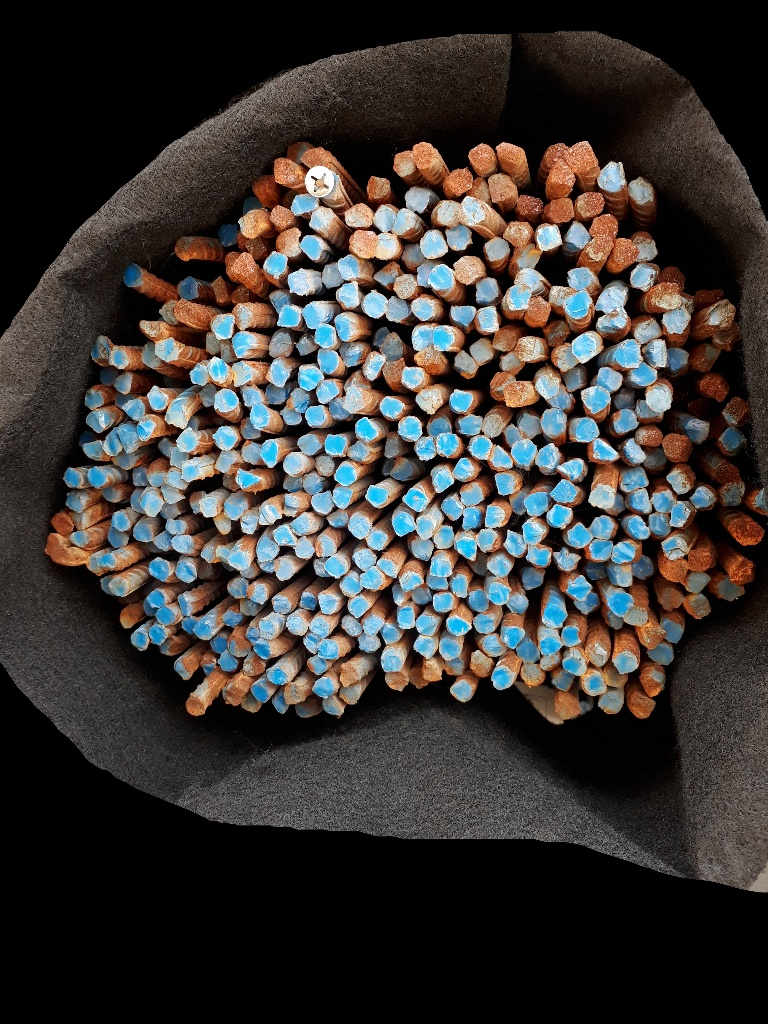dipstick: (565, 140, 599, 176), (657, 550, 690, 582), (451, 254, 483, 286), (661, 431, 692, 464), (597, 162, 629, 193), (733, 517, 765, 548), (579, 386, 614, 414), (545, 166, 576, 197), (307, 167, 337, 199), (488, 370, 518, 401), (727, 556, 757, 587), (660, 306, 692, 335), (710, 319, 739, 351), (630, 316, 662, 345), (589, 436, 621, 465), (612, 237, 639, 271), (639, 340, 671, 368), (597, 312, 630, 339), (626, 176, 655, 206), (707, 301, 737, 330), (349, 230, 379, 259), (699, 372, 730, 400), (502, 380, 533, 408), (473, 304, 501, 335), (637, 622, 668, 650), (549, 343, 578, 372), (563, 221, 591, 251), (562, 290, 592, 318), (645, 382, 672, 413), (629, 358, 658, 386), (392, 206, 420, 235), (615, 339, 642, 369), (458, 196, 485, 226), (716, 479, 746, 506), (627, 691, 657, 718), (88, 335, 115, 365), (494, 142, 525, 168), (721, 396, 746, 428), (542, 320, 570, 348), (420, 230, 447, 259), (610, 408, 639, 435), (415, 388, 444, 415), (688, 546, 715, 575), (606, 561, 635, 588), (360, 291, 389, 318), (585, 235, 615, 261), (664, 347, 690, 377), (511, 244, 541, 270), (510, 438, 536, 468), (588, 214, 619, 239), (502, 221, 533, 246), (654, 283, 682, 310), (553, 691, 581, 718), (487, 175, 516, 201), (468, 144, 497, 170), (541, 409, 567, 438), (717, 576, 746, 602), (683, 593, 712, 619), (623, 515, 652, 541), (335, 282, 361, 311), (694, 342, 719, 372), (575, 192, 606, 216), (595, 288, 626, 312), (631, 235, 658, 262), (547, 383, 574, 410), (516, 414, 543, 441), (546, 196, 574, 222), (595, 366, 623, 392), (684, 417, 712, 443), (491, 328, 519, 354), (467, 435, 495, 461), (549, 478, 577, 504), (336, 254, 362, 282), (239, 212, 267, 238), (333, 314, 359, 342), (287, 269, 313, 297), (588, 515, 617, 540), (379, 333, 404, 362), (373, 262, 402, 287), (646, 641, 676, 665), (640, 666, 664, 696), (618, 470, 650, 492), (535, 225, 562, 251), (483, 234, 510, 260), (506, 284, 533, 310), (667, 468, 694, 494), (514, 336, 541, 362), (468, 651, 495, 677), (545, 503, 572, 529), (275, 228, 301, 255), (118, 396, 144, 423), (661, 265, 686, 293), (433, 200, 461, 225), (345, 203, 373, 228), (383, 362, 411, 387), (572, 417, 601, 441), (433, 433, 462, 457), (586, 483, 615, 507), (648, 511, 672, 540), (512, 269, 542, 292), (634, 424, 664, 447), (637, 399, 663, 425), (448, 388, 474, 414), (527, 543, 553, 569), (403, 486, 429, 512), (154, 338, 180, 364), (572, 335, 597, 362), (427, 264, 452, 291), (486, 446, 513, 471), (430, 466, 455, 493), (410, 534, 435, 561), (353, 417, 380, 442), (346, 513, 373, 538), (231, 332, 256, 359), (719, 426, 743, 454), (404, 188, 432, 212), (556, 457, 585, 480), (681, 570, 711, 592), (630, 264, 656, 289), (474, 277, 499, 303), (561, 366, 587, 391), (520, 663, 546, 688), (392, 511, 417, 537), (398, 416, 423, 442), (393, 274, 418, 300), (411, 142, 436, 168), (342, 387, 367, 413), (309, 208, 335, 233), (273, 158, 298, 184), (267, 333, 293, 358), (233, 255, 259, 280), (543, 142, 570, 166), (498, 351, 525, 375), (606, 591, 633, 615), (384, 295, 408, 322), (338, 341, 365, 365), (140, 343, 164, 370), (163, 466, 190, 490), (662, 535, 690, 558), (362, 353, 385, 381), (344, 370, 372, 393), (290, 194, 319, 216), (300, 148, 329, 170), (119, 425, 140, 455), (492, 471, 517, 496), (690, 484, 715, 509), (610, 539, 635, 564), (567, 576, 592, 601), (553, 548, 578, 573), (445, 226, 471, 250), (626, 487, 650, 513), (566, 521, 590, 547), (659, 618, 683, 644), (597, 692, 623, 716), (580, 672, 606, 696), (489, 666, 515, 690), (388, 457, 414, 481), (374, 234, 398, 260), (393, 151, 417, 177), (242, 651, 266, 677), (85, 408, 111, 432), (534, 374, 561, 397), (622, 439, 645, 466), (470, 336, 493, 363), (454, 348, 477, 375), (412, 325, 435, 352), (140, 319, 167, 342), (566, 267, 594, 289), (571, 593, 599, 615), (541, 604, 569, 626), (482, 635, 510, 657), (212, 389, 240, 411), (514, 195, 543, 216), (449, 168, 473, 193), (527, 295, 552, 319), (521, 520, 546, 544), (454, 537, 478, 562), (415, 613, 440, 637), (411, 296, 435, 321), (347, 594, 371, 619), (276, 305, 301, 329), (264, 251, 288, 276), (177, 276, 201, 301), (561, 652, 587, 675), (658, 588, 684, 611), (503, 530, 526, 556), (487, 554, 513, 577), (212, 427, 238, 450), (302, 303, 325, 329), (640, 447, 667, 469), (174, 429, 201, 451), (111, 452, 144, 470), (587, 540, 615, 561), (452, 457, 476, 481), (614, 650, 638, 674), (551, 668, 575, 692), (367, 175, 391, 199), (310, 491, 334, 515), (316, 349, 340, 373), (515, 638, 538, 663), (433, 525, 456, 550), (391, 582, 414, 607), (224, 496, 249, 519), (327, 397, 352, 420), (298, 236, 321, 261), (450, 303, 476, 325), (537, 444, 559, 470), (523, 492, 549, 514), (668, 500, 690, 526), (537, 635, 563, 657), (235, 468, 261, 490), (211, 314, 233, 340), (141, 491, 163, 517), (259, 440, 280, 467), (147, 386, 168, 413), (508, 490, 532, 513), (459, 482, 483, 505), (631, 555, 654, 579), (586, 642, 609, 666), (475, 530, 499, 553), (365, 484, 389, 507), (334, 463, 357, 487), (359, 568, 383, 591), (218, 648, 241, 672), (255, 536, 279, 559), (287, 140, 311, 163), (299, 366, 323, 389), (164, 406, 187, 430), (146, 462, 170, 485), (432, 325, 454, 350), (501, 626, 526, 648), (340, 572, 362, 597), (298, 433, 323, 455), (265, 364, 290, 386), (456, 414, 482, 435), (651, 491, 677, 512), (604, 605, 625, 631), (471, 614, 497, 635), (263, 384, 289, 405), (315, 324, 336, 350), (231, 303, 252, 329), (137, 418, 158, 444), (483, 505, 506, 528), (422, 661, 445, 684), (426, 570, 449, 593), (326, 557, 349, 580), (612, 388, 636, 410), (604, 665, 628, 687), (559, 625, 583, 647), (439, 637, 461, 661), (450, 680, 474, 702), (227, 636, 251, 658), (249, 404, 271, 428), (716, 464, 741, 485), (332, 485, 353, 510), (288, 390, 313, 411), (322, 263, 343, 288), (245, 235, 266, 260), (160, 300, 181, 325), (314, 382, 340, 402), (208, 357, 228, 383), (160, 485, 186, 505), (251, 176, 278, 195), (549, 284, 572, 306), (480, 414, 502, 437), (487, 581, 509, 604), (468, 589, 490, 612), (381, 651, 403, 674), (363, 613, 385, 636), (357, 632, 380, 654), (223, 682, 245, 705), (315, 535, 337, 558), (215, 450, 238, 472), (240, 442, 263, 464), (295, 333, 317, 356), (189, 364, 212, 386), (444, 617, 472, 635), (401, 367, 425, 388), (377, 557, 401, 578), (379, 397, 403, 418), (353, 548, 377, 569), (274, 557, 295, 581), (122, 265, 143, 289), (148, 558, 169, 582), (623, 606, 648, 626), (427, 416, 452, 436), (403, 245, 423, 270), (226, 252, 246, 277), (175, 235, 193, 262), (211, 278, 229, 305), (415, 437, 437, 459), (585, 559, 607, 581), (414, 635, 436, 657), (366, 528, 388, 550), (316, 639, 338, 661), (338, 662, 360, 684), (284, 683, 306, 705), (282, 494, 304, 516), (283, 453, 305, 475), (240, 418, 262, 440), (521, 569, 544, 590), (379, 623, 402, 644), (217, 225, 238, 248), (181, 461, 202, 484), (175, 563, 198, 584), (414, 348, 438, 368), (385, 671, 409, 691), (302, 632, 322, 656), (226, 577, 250, 597), (295, 536, 315, 560), (290, 514, 314, 534), (433, 593, 458, 612), (396, 605, 415, 630), (304, 406, 329, 425), (227, 285, 252, 304), (110, 346, 129, 371), (70, 530, 95, 549), (507, 593, 528, 615), (460, 508, 482, 529), (448, 575, 469, 597), (431, 554, 453, 575), (415, 516, 436, 538), (306, 655, 328, 676), (247, 583, 269, 604), (199, 497, 220, 519), (232, 364, 253, 386), (173, 657, 195, 678), (417, 264, 437, 287), (322, 696, 345, 716), (240, 385, 263, 405), (169, 446, 189, 469), (131, 521, 154, 541), (120, 607, 140, 630), (400, 571, 424, 590), (60, 547, 84, 566), (325, 433, 346, 454), (314, 455, 335, 476), (153, 531, 174, 552), (269, 207, 291, 227), (173, 300, 193, 322), (199, 385, 219, 407), (83, 389, 105, 409), (86, 467, 106, 489), (51, 514, 73, 534), (172, 534, 194, 554), (186, 696, 208, 716), (443, 657, 466, 676), (308, 617, 331, 636), (266, 666, 289, 685), (239, 596, 262, 615), (101, 485, 125, 503), (412, 585, 433, 605), (341, 616, 362, 636), (313, 677, 334, 697), (287, 614, 308, 634), (239, 513, 260, 533), (303, 474, 324, 494), (212, 513, 232, 534), (113, 373, 134, 393), (67, 508, 87, 529), (112, 511, 132, 532), (107, 527, 128, 547), (110, 577, 130, 598), (155, 605, 176, 625), (441, 496, 463, 515), (338, 684, 357, 706), (258, 618, 277, 640), (62, 468, 84, 487), (104, 433, 123, 455), (129, 630, 151, 649), (147, 625, 169, 644), (45, 534, 64, 556), (280, 405, 303, 423), (251, 681, 271, 701), (131, 467, 151, 487), (252, 639, 273, 658), (228, 550, 249, 569), (261, 505, 283, 523), (373, 327, 391, 349), (65, 493, 87, 511), (318, 594, 337, 614), (348, 442, 369, 460), (222, 609, 243, 627), (539, 653, 561, 670), (130, 490, 147, 512), (503, 424, 519, 447), (81, 441, 104, 457), (409, 669, 428, 688), (272, 595, 291, 614), (273, 526, 292, 545), (270, 292, 289, 311), (146, 590, 166, 608), (210, 635, 231, 652), (328, 510, 349, 527), (282, 475, 303, 492), (243, 196, 264, 213), (190, 493, 207, 514), (299, 591, 317, 610), (194, 622, 212, 641), (200, 545, 219, 563), (272, 693, 289, 713), (245, 624, 262, 644), (200, 654, 216, 675), (178, 594, 193, 616), (157, 439, 175, 457), (314, 558, 331, 577), (215, 545, 232, 564), (166, 519, 186, 535), (296, 700, 315, 716), (97, 553, 116, 569), (160, 503, 180, 518), (240, 562, 258, 578), (143, 598, 157, 616), (259, 559, 275, 571)
